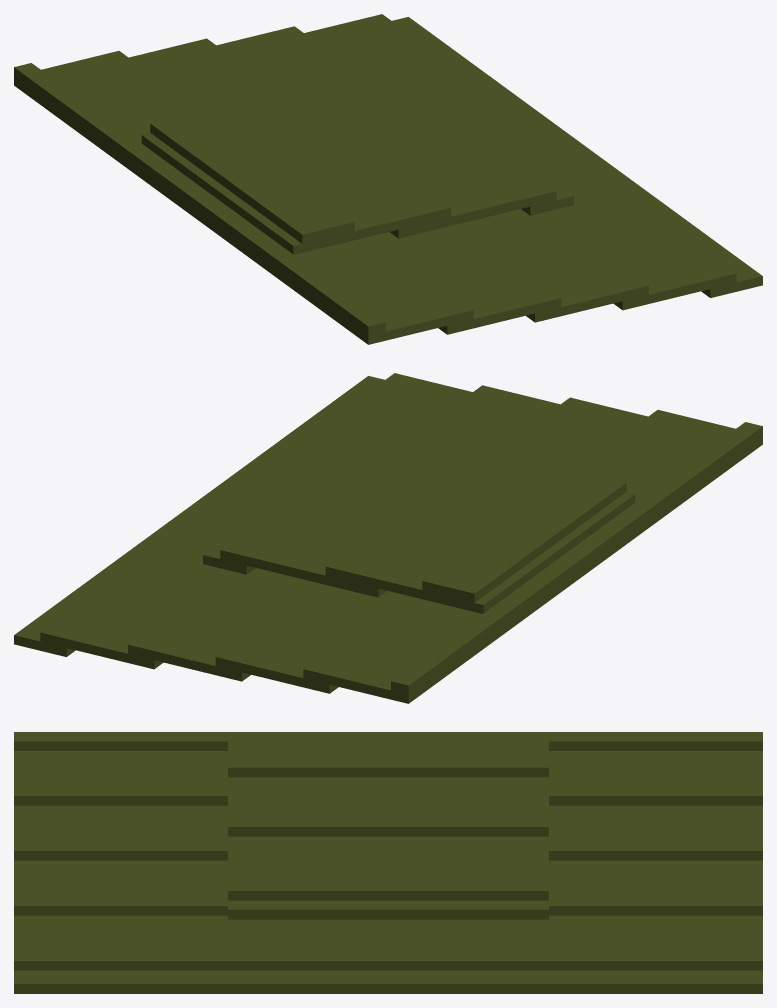
Rendered from utility_4x4_hood.glb.
3 renders of one model, top to bottom at view 1: azimuth 30°, elevation 25°; view 2: azimuth 150°, elevation 25°; view 3: azimuth 270°, elevation 25°, orthographic. The views are drawn at different scales.
Visible parts, largest first — view 1: body:compound; view 2: body:compound; view 3: body:compound.
Part boxes in pixels (x1,y1,x2,y2): body:compound: (14, 14, 762, 344); body:compound: (14, 373, 762, 703); body:compound: (14, 732, 762, 993).
Size of the model in its own units: 1.41 by 0.2188 by 2.19.
